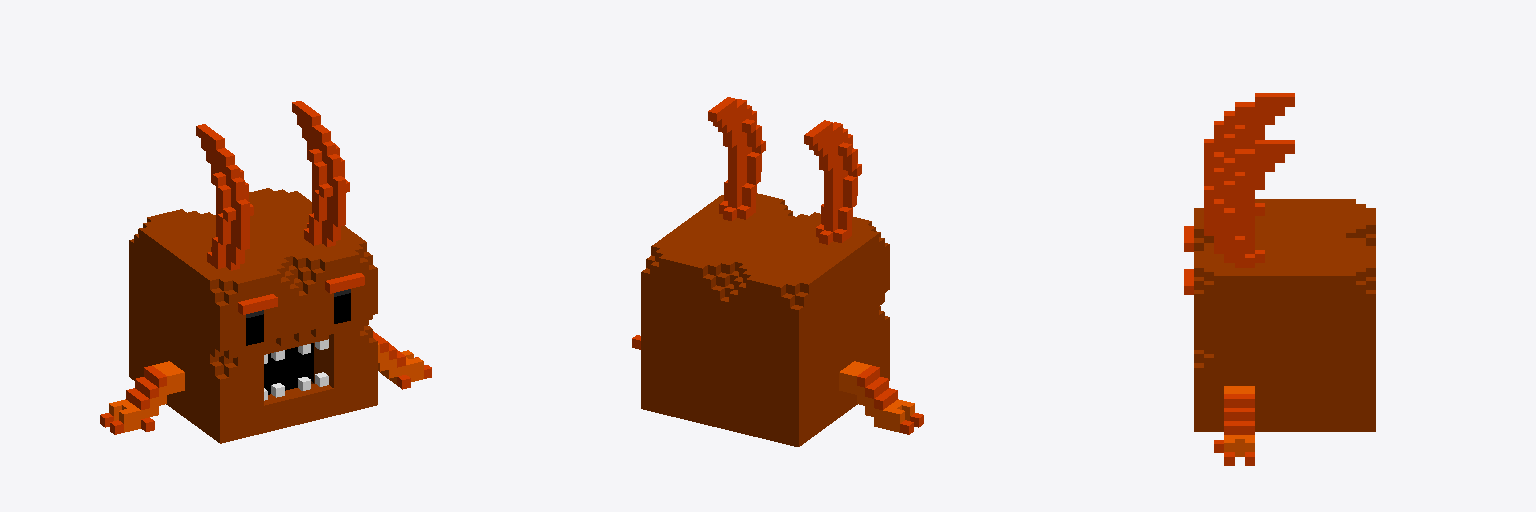
3 renders of one model, left to right at view 1: azimuth 30°, elevation 25°; view 2: azimuth 150°, elevation 25°; view 3: azimuth 270°, elevation 25°, orthographic.
Parts seen in each view (by area): view 1: monster1_run3; view 2: monster1_run3; view 3: monster1_run3.
Boxes of the visible parts, x1=… form: monster1_run3: x1=100, y1=101, x2=431, y2=443; monster1_run3: x1=632, y1=97, x2=923, y2=446; monster1_run3: x1=1184, y1=93, x2=1375, y2=465.
Size of the model in its own units: 34 by 30 by 19.
1 materials, 1 textured.